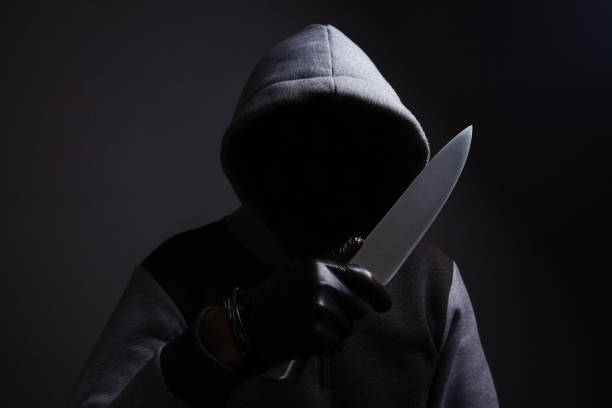knife: (259, 123, 474, 385)
